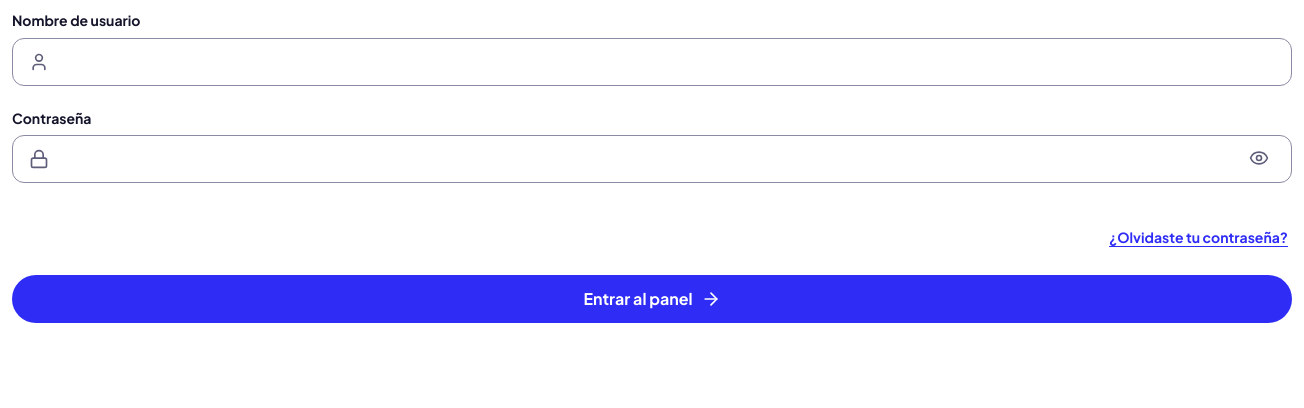
LoginForm: envío › 401 muestra el mensaje genérico (CA-003) y devuelve el botón a su estado normal
The width and height of the screenshot is (1304, 408).
Type "lucia" into the field labelled "Nombre de usuario". click: (666, 62)
box: [57, 40, 1275, 84]
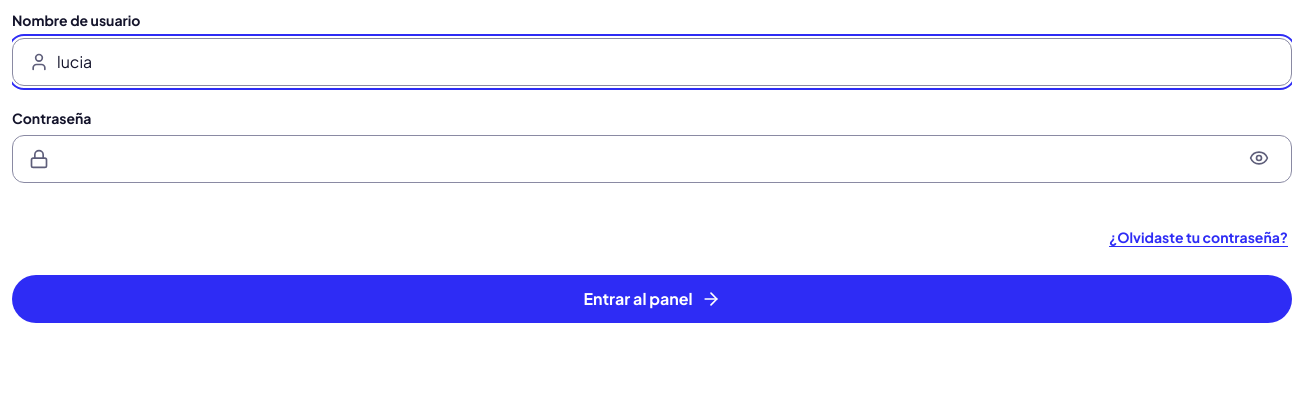
Type "incorrecta-1" into the password field labelled "Contraseña". click: (646, 159)
box: [57, 137, 1235, 181]
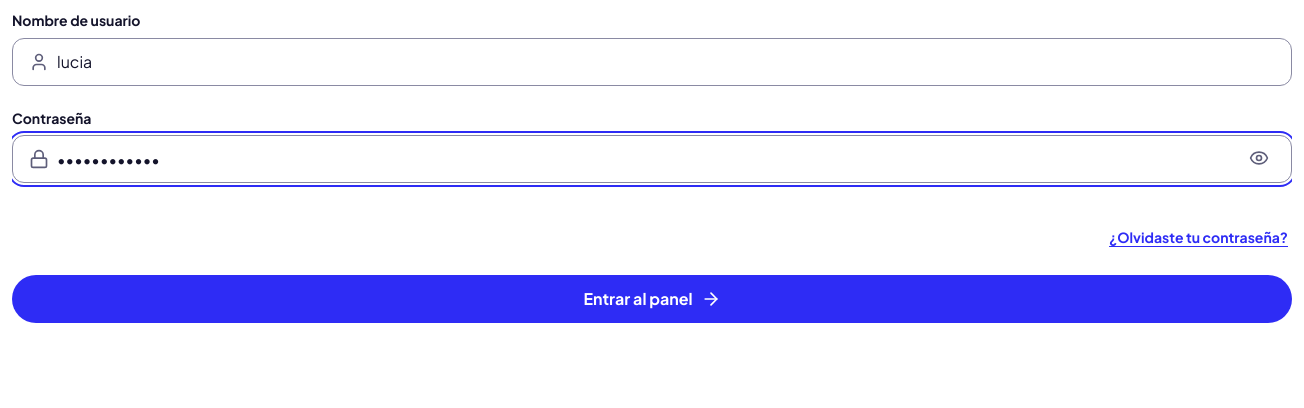
Click the button with test id "login-submit". click: click(652, 299)
box: [12, 275, 1292, 323]
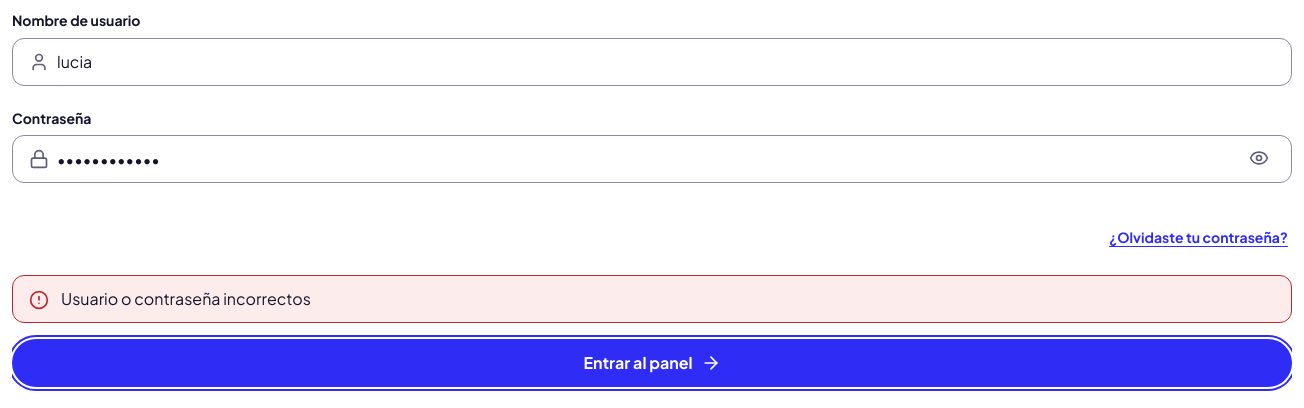
Expected: the message with test id "login-error" reads "Usuario o contraseña incorrectos", [61, 288, 311, 309]
